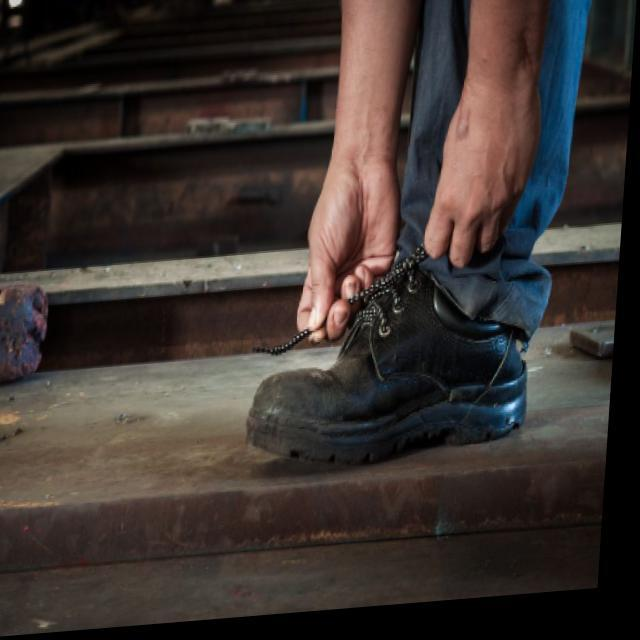shoes: (240, 221, 547, 478)
